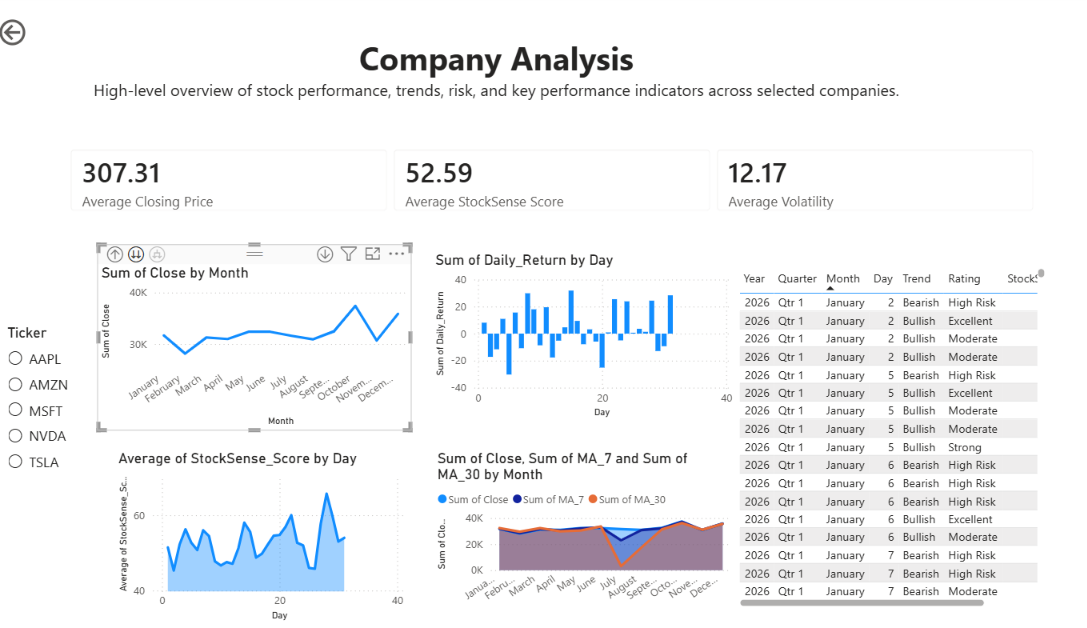

This screenshot's page, from the dashboard's own definition file:
{"tool":"powerbi","page":{"name":"Company Analysis","canvas":[1280,720],"ordinal":1},"visuals":[{"type":"lineChart","fields":{"Category":["stock_data.Date.Variation.Date Hierarchy.Year","stock_data.Date.Variation.Date Hierarchy.Quarter","stock_data.Date.Variation.Date Hierarchy.Month","stock_data.Date.Variation.Date Hierarchy.Day"],"Y":["Sum(stock_data.Close)"]},"box":[118.8,290,365,193.8],"z":0},{"type":"listSlicer","fields":{"Values":["stock_data.Ticker"]},"box":[9.6,359.5,108.4,204.5],"z":1000},{"type":"areaChart","fields":{"Category":["stock_data.Date.Variation.Date Hierarchy.Year","stock_data.Date.Variation.Date Hierarchy.Quarter","stock_data.Date.Variation.Date Hierarchy.Month","stock_data.Date.Variation.Date Hierarchy.Day"],"Y":["Sum(stock_data.Close)","Sum(stock_data.MA_7)","Sum(stock_data.MA_30)"]},"box":[509.1,505,351.3,188],"z":2000},{"type":"columnChart","fields":{"Category":["stock_data.Date.Variation.Date Hierarchy.Year","stock_data.Date.Variation.Date Hierarchy.Quarter","stock_data.Date.Variation.Date Hierarchy.Month","stock_data.Date.Variation.Date Hierarchy.Day"],"Y":["Sum(stock_data.Daily_Return)"]},"box":[507.5,275,356.2,198.8],"z":3000},{"type":"areaChart","fields":{"Category":["stock_data.Date.Variation.Date Hierarchy.Year","stock_data.Date.Variation.Date Hierarchy.Quarter","stock_data.Date.Variation.Date Hierarchy.Month","stock_data.Date.Variation.Date Hierarchy.Day"],"Y":["Avg(stock_data.StockSense_Score)"]},"box":[138.6,505,344.4,204.5],"z":4000},{"type":"tableEx","fields":{"Values":["stock_data.Date.Variation.Date Hierarchy.Year","stock_data.Date.Variation.Date Hierarchy.Quarter","stock_data.Date.Variation.Date Hierarchy.Month","stock_data.Date.Variation.Date Hierarchy.Day","stock_data.Trend","stock_data.Rating","stock_data.StockSense_Score"]},"box":[859.9,289.7,366.5,403.8],"z":5000},{"type":"actionButton","box":[0,0,100,40],"z":6000},{"type":"cardVisual","fields":{"Data":["Measures (3).Average Closing Price","Measures (3).Average StockSense Score","Measures (3).Average Volatility"]},"box":[71.2,140,1155,105],"z":7000},{"type":"textbox","box":[50,20,1066.2,92.5],"z":7001}]}

Visuals, with their boxes in screenshot pixels (x1, y1, x2, y2), scaled from the page's 1280x720 canvas onto the 1087x628 screenshot:
lineChart - stock_data.Date.Variation.Date Hierarchy.Year x stock_data.Date.Variation.Date Hierarchy.Quarter: pyautogui.locateOnScreen(101, 253, 411, 422)
listSlicer - stock_data.Ticker: pyautogui.locateOnScreen(8, 314, 100, 492)
areaChart - stock_data.Date.Variation.Date Hierarchy.Year x stock_data.Date.Variation.Date Hierarchy.Quarter: pyautogui.locateOnScreen(432, 440, 731, 604)
columnChart - stock_data.Date.Variation.Date Hierarchy.Year x stock_data.Date.Variation.Date Hierarchy.Quarter: pyautogui.locateOnScreen(431, 240, 733, 413)
areaChart - stock_data.Date.Variation.Date Hierarchy.Year x stock_data.Date.Variation.Date Hierarchy.Quarter: pyautogui.locateOnScreen(118, 440, 410, 619)
tableEx - stock_data.Date.Variation.Date Hierarchy.Year x stock_data.Date.Variation.Date Hierarchy.Quarter: pyautogui.locateOnScreen(730, 253, 1041, 605)
actionButton: pyautogui.locateOnScreen(0, 0, 85, 35)
cardVisual - Measures (3).Average Closing Price x Measures (3).Average StockSense Score: pyautogui.locateOnScreen(60, 122, 1041, 214)
textbox: pyautogui.locateOnScreen(42, 17, 948, 98)
